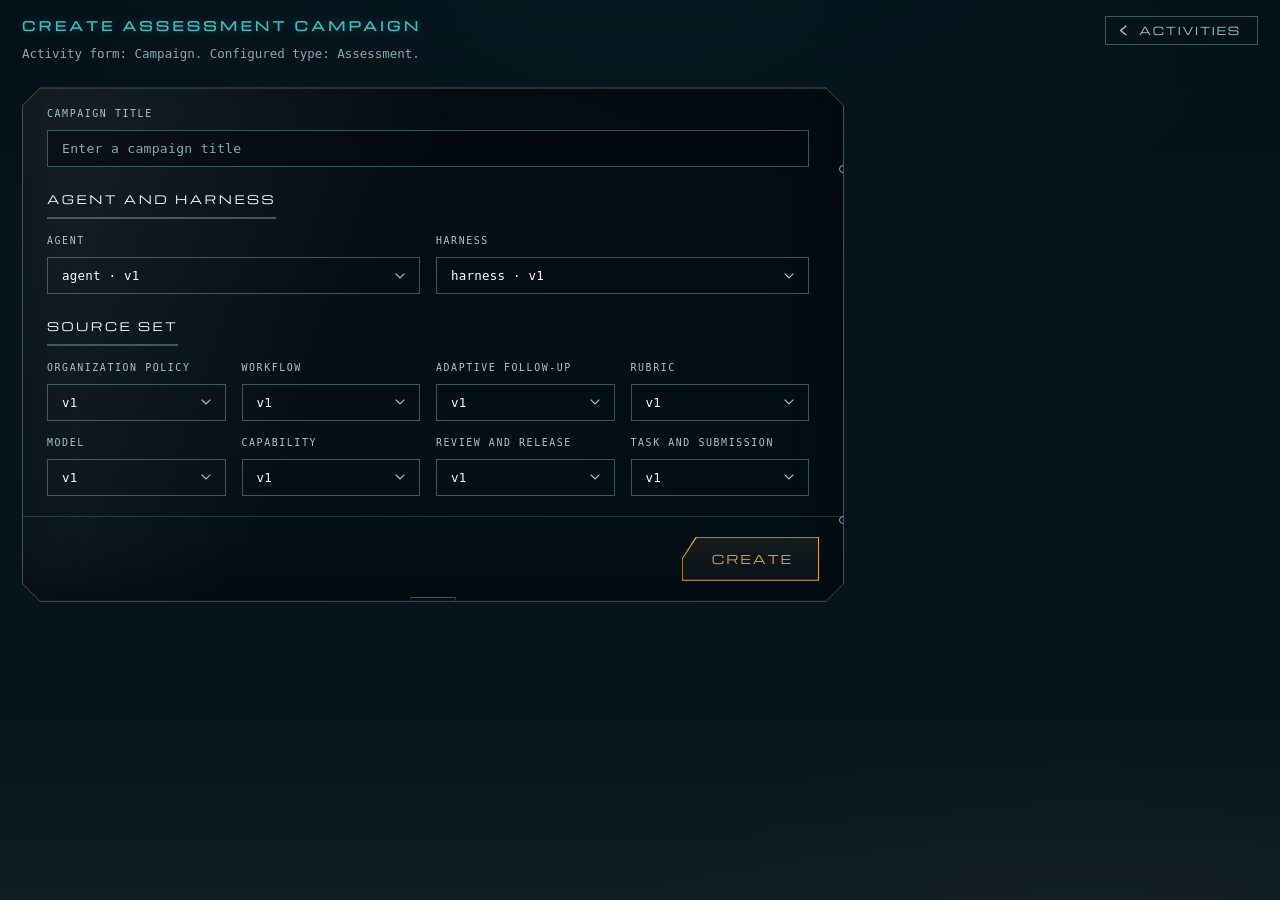
Scenario: AssessmentCampaignCreatePage › preserves the title after a create failure
Type "Local campaign" into the field labelled "Campaign title".
click(428, 149); type("Local campaign")  # box top-left (47, 130), bottom-right (809, 167)
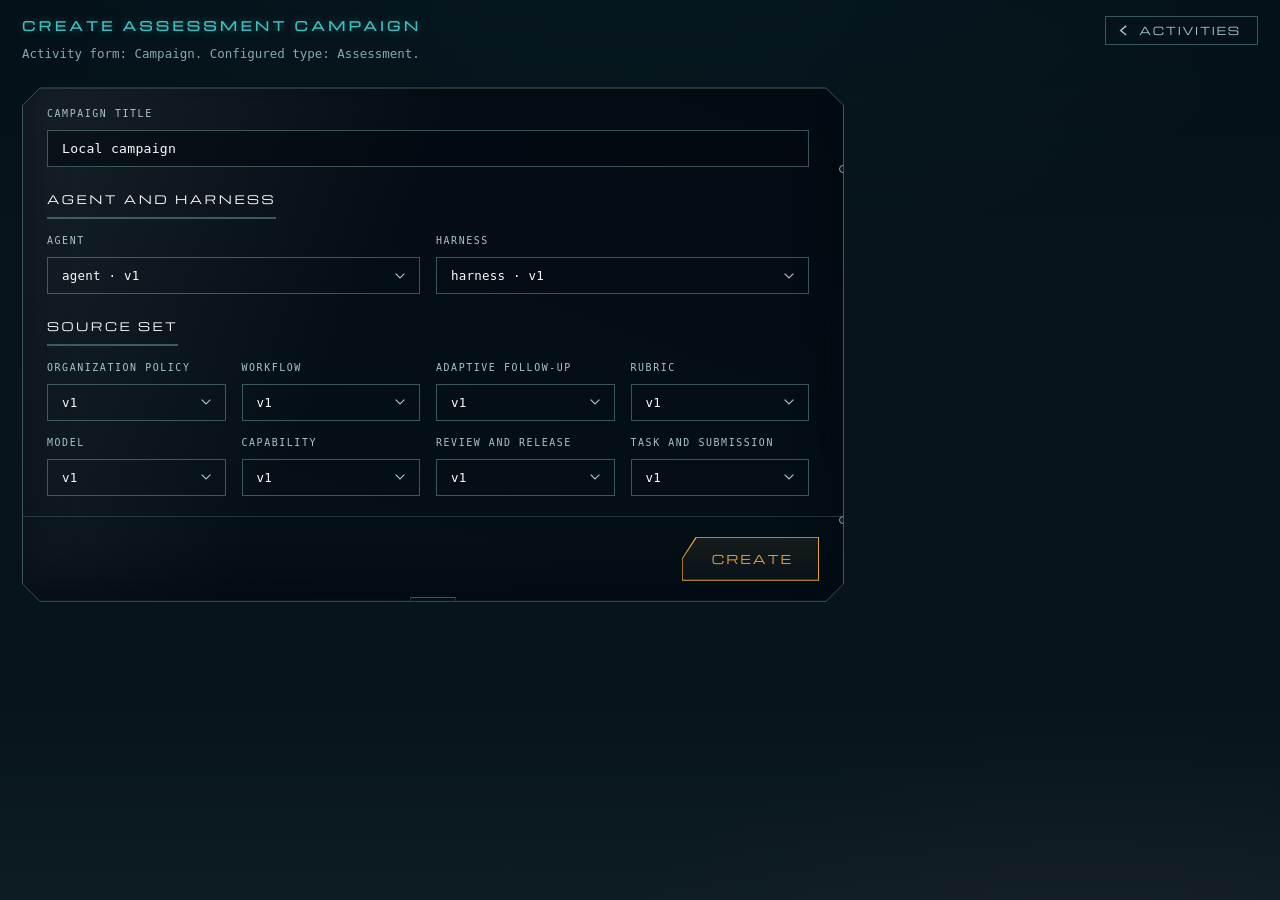
Click the button "Create".
click(750, 559)  # box top-left (682, 537), bottom-right (819, 581)
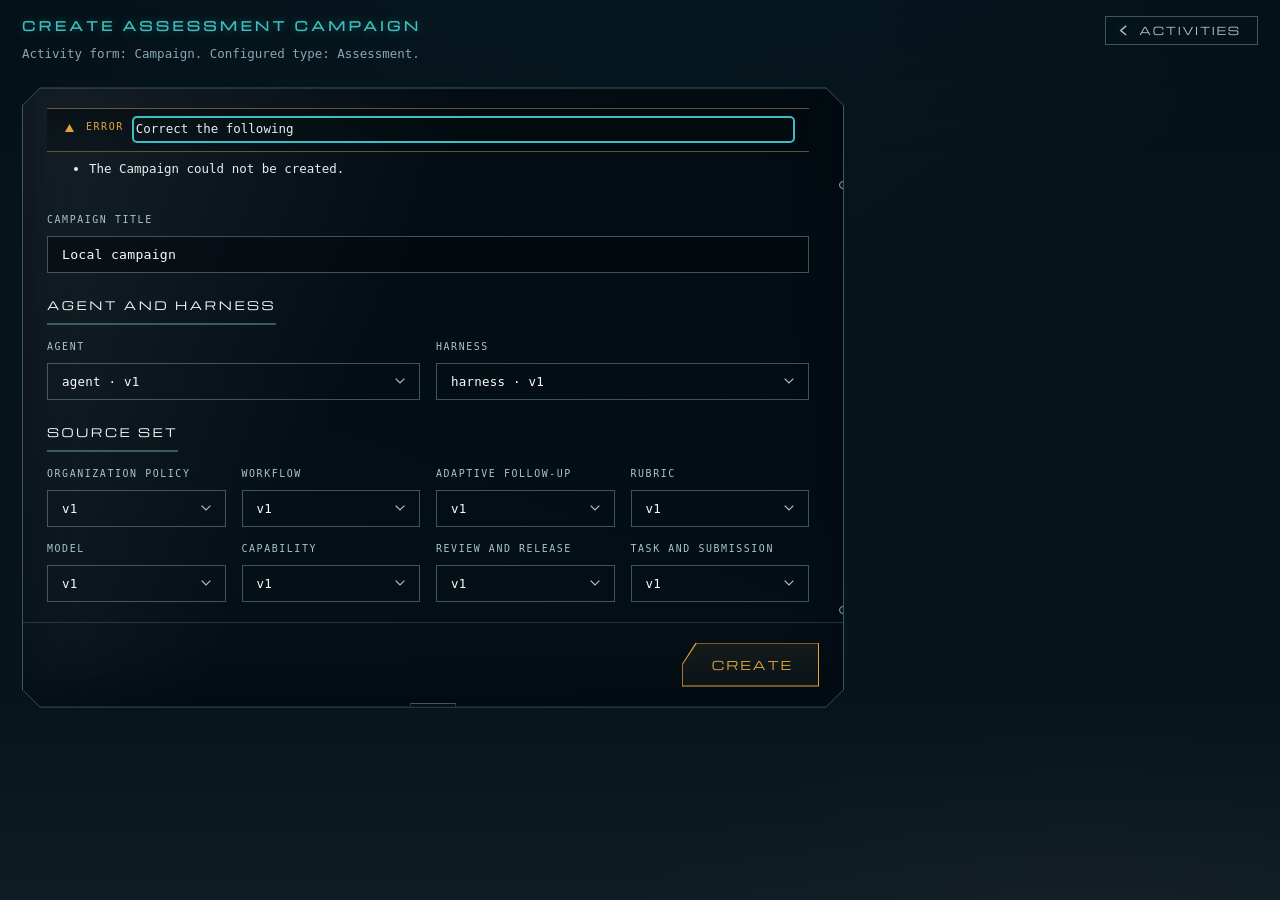
Now the list item "The Campaign could not be created." is shown, box top-left (89, 160), bottom-right (344, 176)
